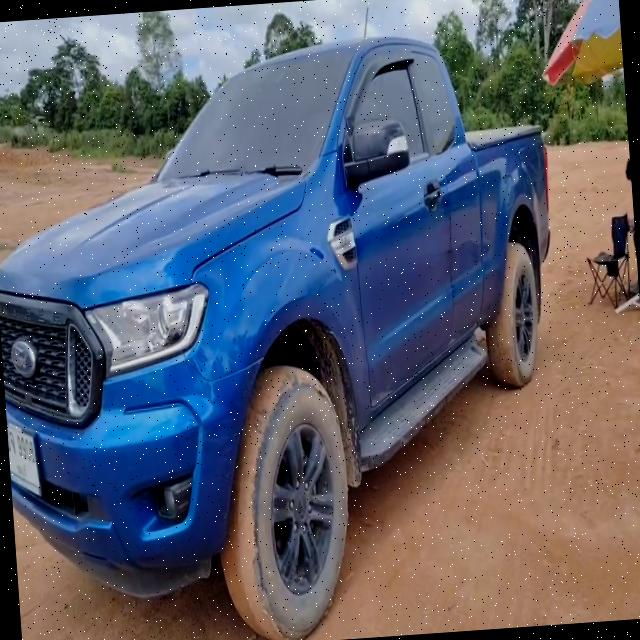Digit: (15, 433, 36, 464)
Licenseplate: (6, 422, 41, 497)
Provincename: (15, 459, 29, 480)
Thaichar: (7, 429, 16, 453)
